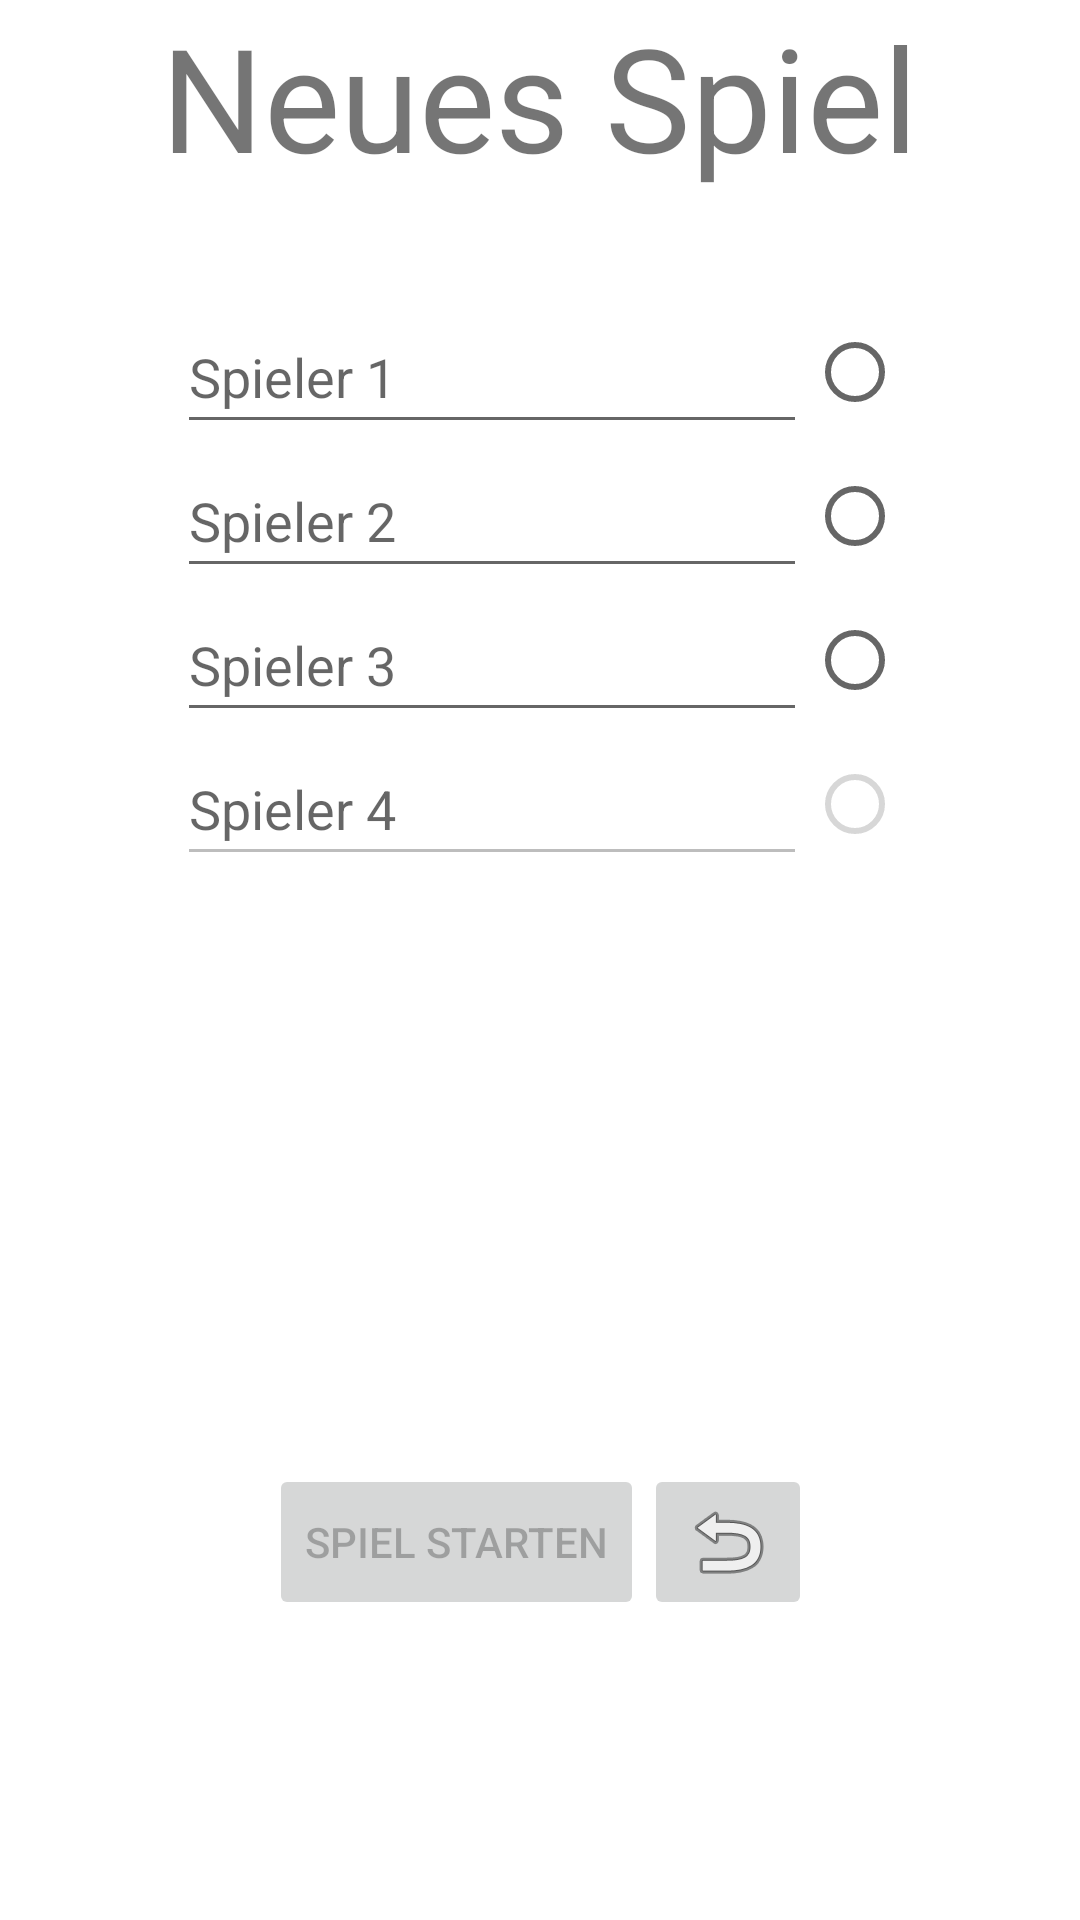

Icons on this 1080 x 1920 Android screen, each with its box as bbox(x1, y1, x2, y2):
Eingabe verlassen: bbox(656, 1482, 800, 1602)
